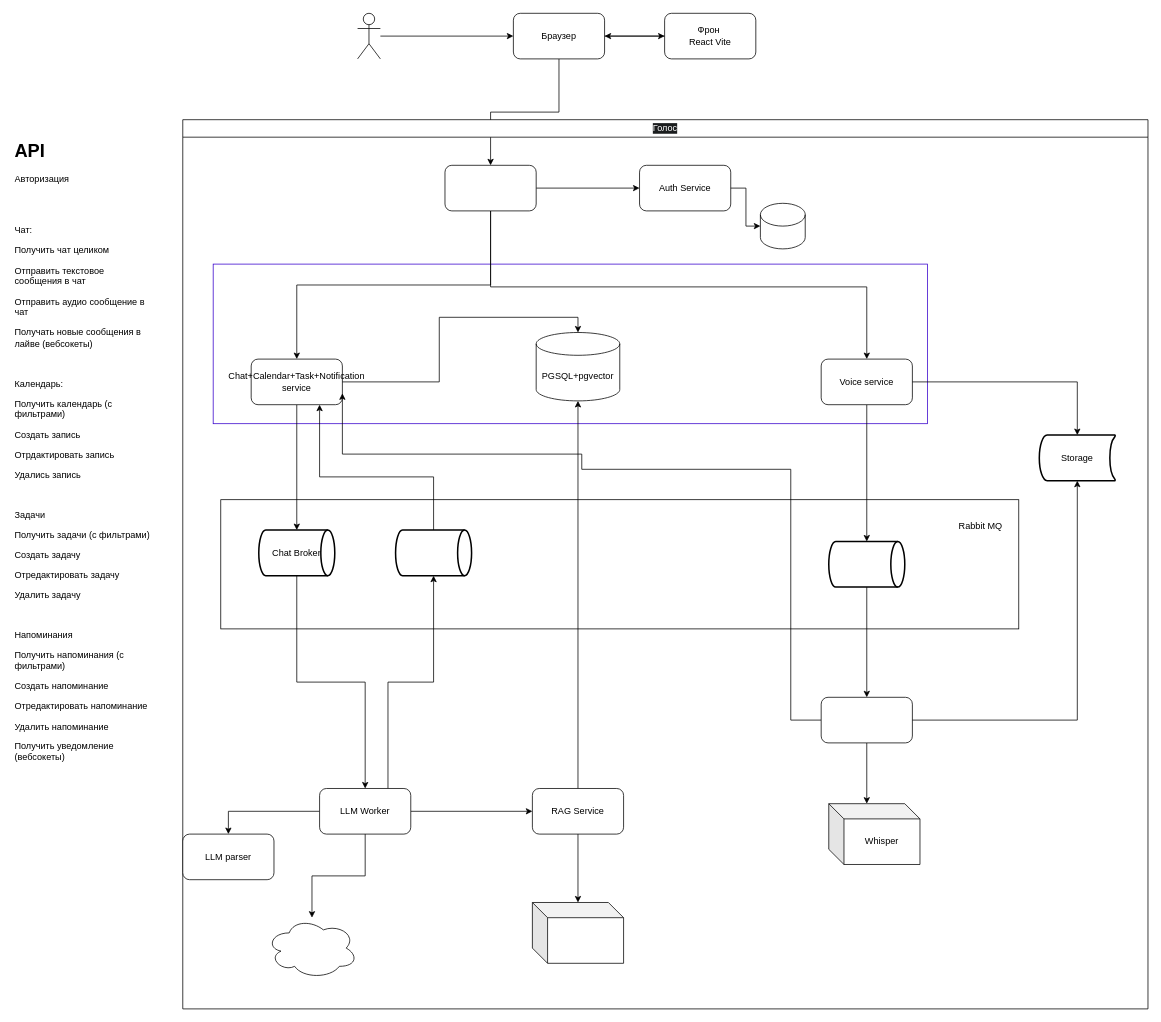
The diagram is 1161 pixels wide and 1022 high, and some of its shapes have lost their labels. The centre of each missing label's shape, as x and y in pixels:
"Actor" goes at [368,36].
"API Gateway (Nginx)" goes at [490,188].
"Embedding model" goes at [578,932].
"LLM" goes at [312,947].
"LLM Response Broker" goes at [433,552].
"Transcribation Broker" goes at [866,563].
"Transcribation worker" goes at [866,720].
